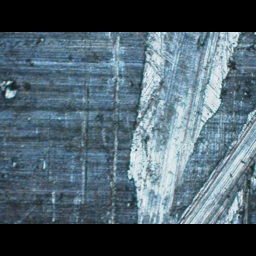d: (121, 32, 255, 223), (0, 75, 30, 102)
